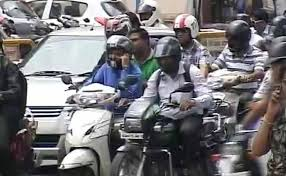helmet: (152, 33, 188, 77), (105, 33, 137, 73), (170, 9, 200, 43)
